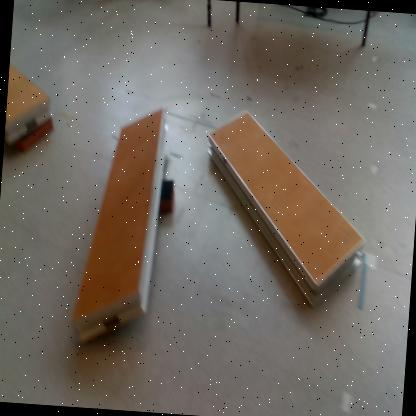Stairs: (209, 109, 366, 311), (71, 109, 171, 354), (5, 63, 52, 145)
